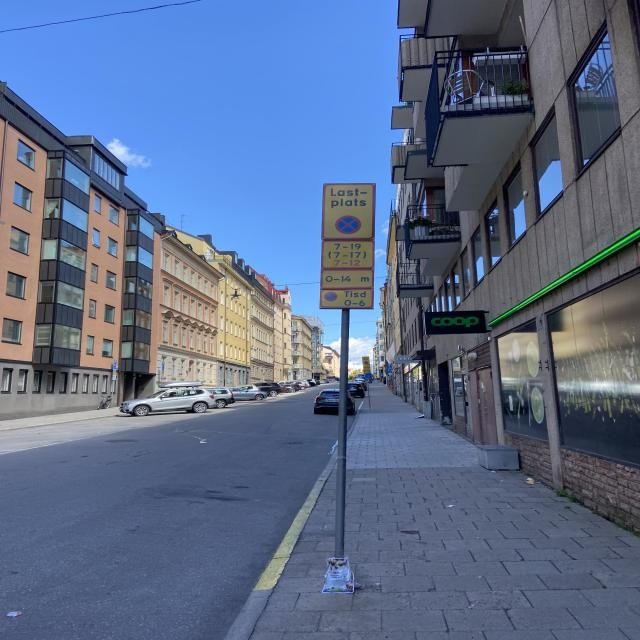lastplats: (321, 182, 374, 241)
